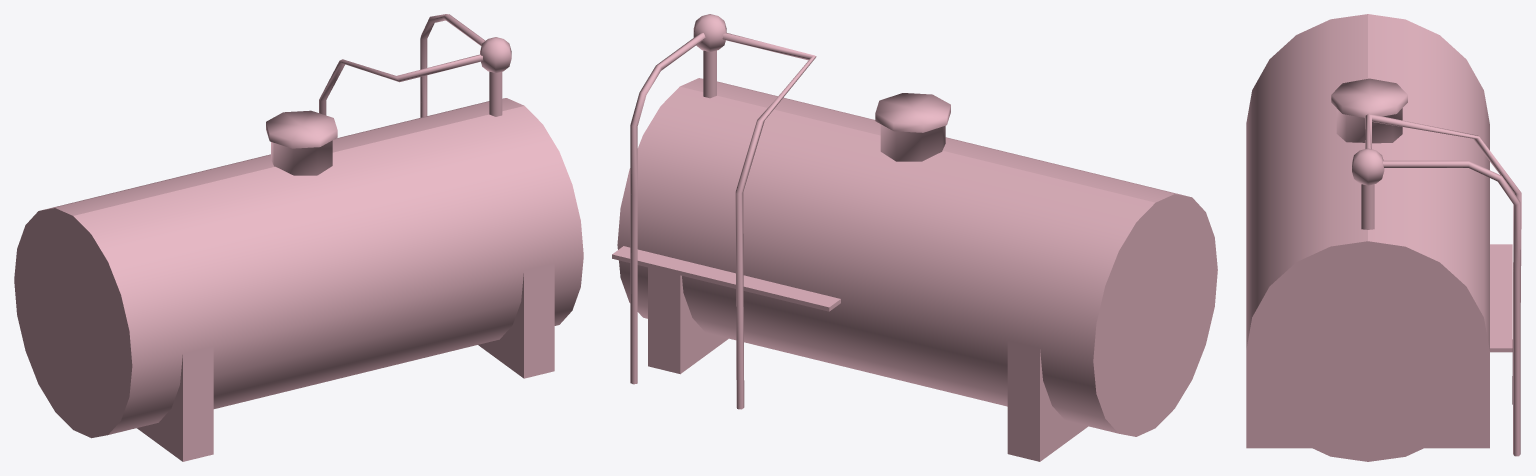
The model's file is tankcapacity4.fbx.
3 views of the same model, side by side, from view 1: azimuth 30°, elevation 25°; view 2: azimuth 150°, elevation 25°; view 3: azimuth 270°, elevation 25° (orthographic). The views are drawn at different scales.
Visible parts, largest first — view 1: oily_ref; view 2: oily_ref; view 3: oily_ref.
Boxes of the visible parts, box(x1,y1,x2,y2) form: oily_ref: box(14, 14, 583, 461); oily_ref: box(612, 14, 1217, 461); oily_ref: box(1246, 14, 1521, 461).
Size of the model in its own units: 393 by 246 by 202.
